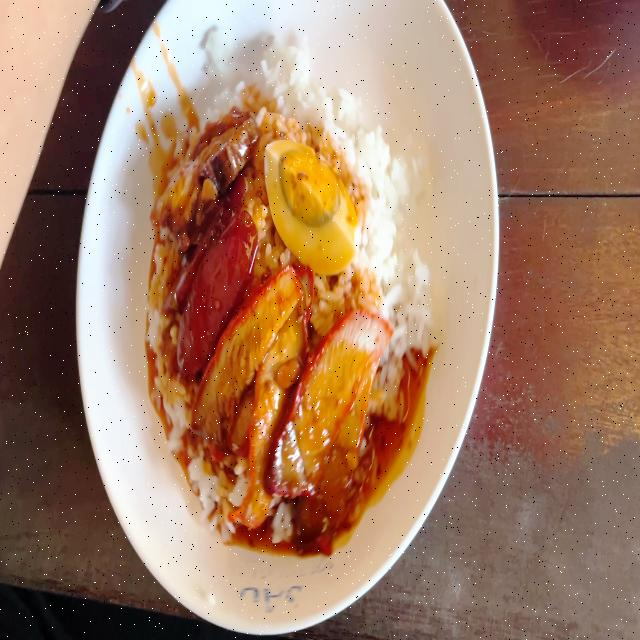boiled_egg: (265, 135, 358, 267)
chainese_sausage: (163, 190, 249, 344)
crispy_pork: (153, 86, 250, 214)
red_pork: (221, 287, 317, 526), (304, 318, 392, 518)
red_pork_and_crispy_pork: (156, 74, 438, 493)
rice: (366, 140, 430, 307), (236, 68, 415, 127), (145, 317, 179, 441)
